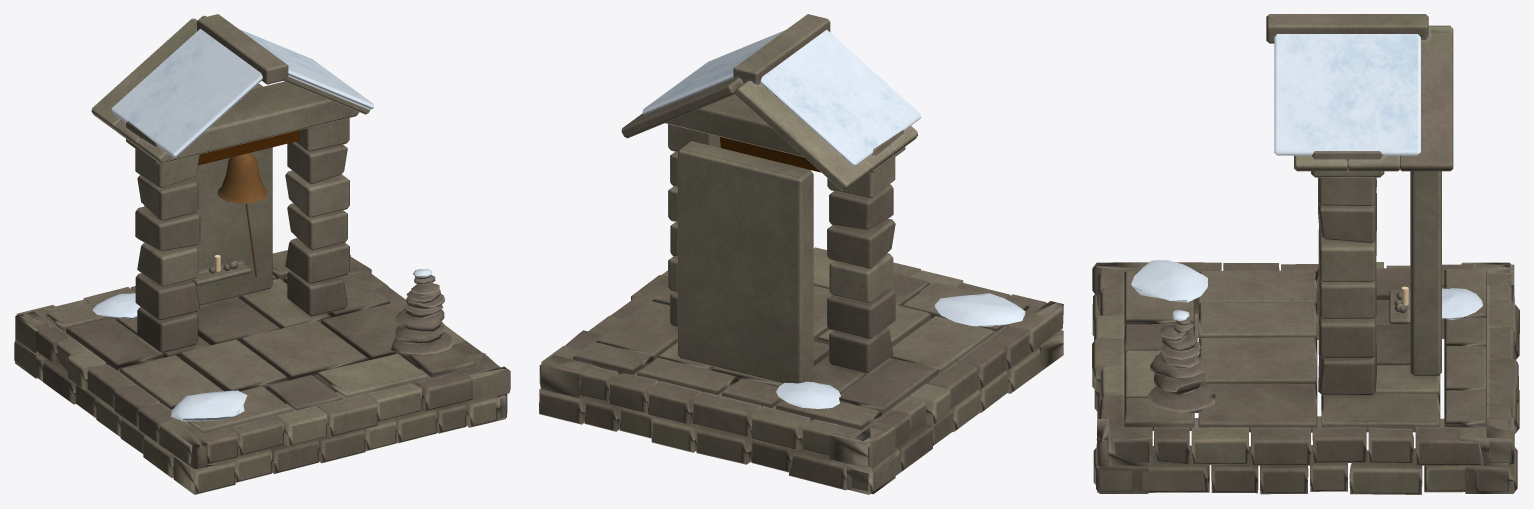
File: SantuarioVetta.fbx
The picture shows the model from 3 angles, left to right: view 1: azimuth 30°, elevation 25°; view 2: azimuth 150°, elevation 25°; view 3: azimuth 270°, elevation 25°; orthographic projection. The views are drawn at different scales.
Visible parts, largest first — view 1: Santuario_Pietra, Santuario_Neve, Santuario_Ometto, Santuario_Bronzo, Santuario_Legno; view 2: Santuario_Pietra, Santuario_Neve, Santuario_Legno; view 3: Santuario_Pietra, Santuario_Neve, Santuario_Ometto.
Part boxes in pixels (x1,y1,x2,y2): Santuario_Pietra: [14, 14, 510, 494]; Santuario_Neve: [92, 29, 431, 421]; Santuario_Ometto: [208, 260, 454, 355]; Santuario_Bronzo: [217, 153, 267, 203]; Santuario_Legno: [198, 130, 300, 277]; Santuario_Pietra: [539, 14, 1063, 494]; Santuario_Neve: [642, 29, 1025, 408]; Santuario_Legno: [720, 137, 820, 172]; Santuario_Pietra: [1092, 14, 1519, 494]; Santuario_Neve: [1131, 34, 1482, 320]; Santuario_Ometto: [1147, 292, 1406, 412].
Size of the model in its own units: 408 by 407 by 408.
